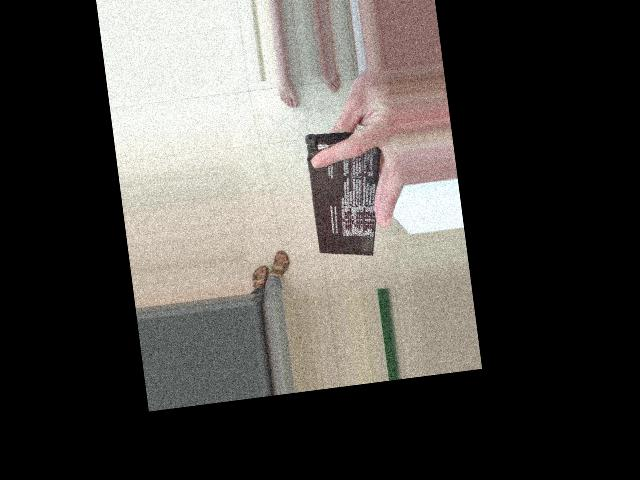chocolate: (233, 146, 375, 236)
